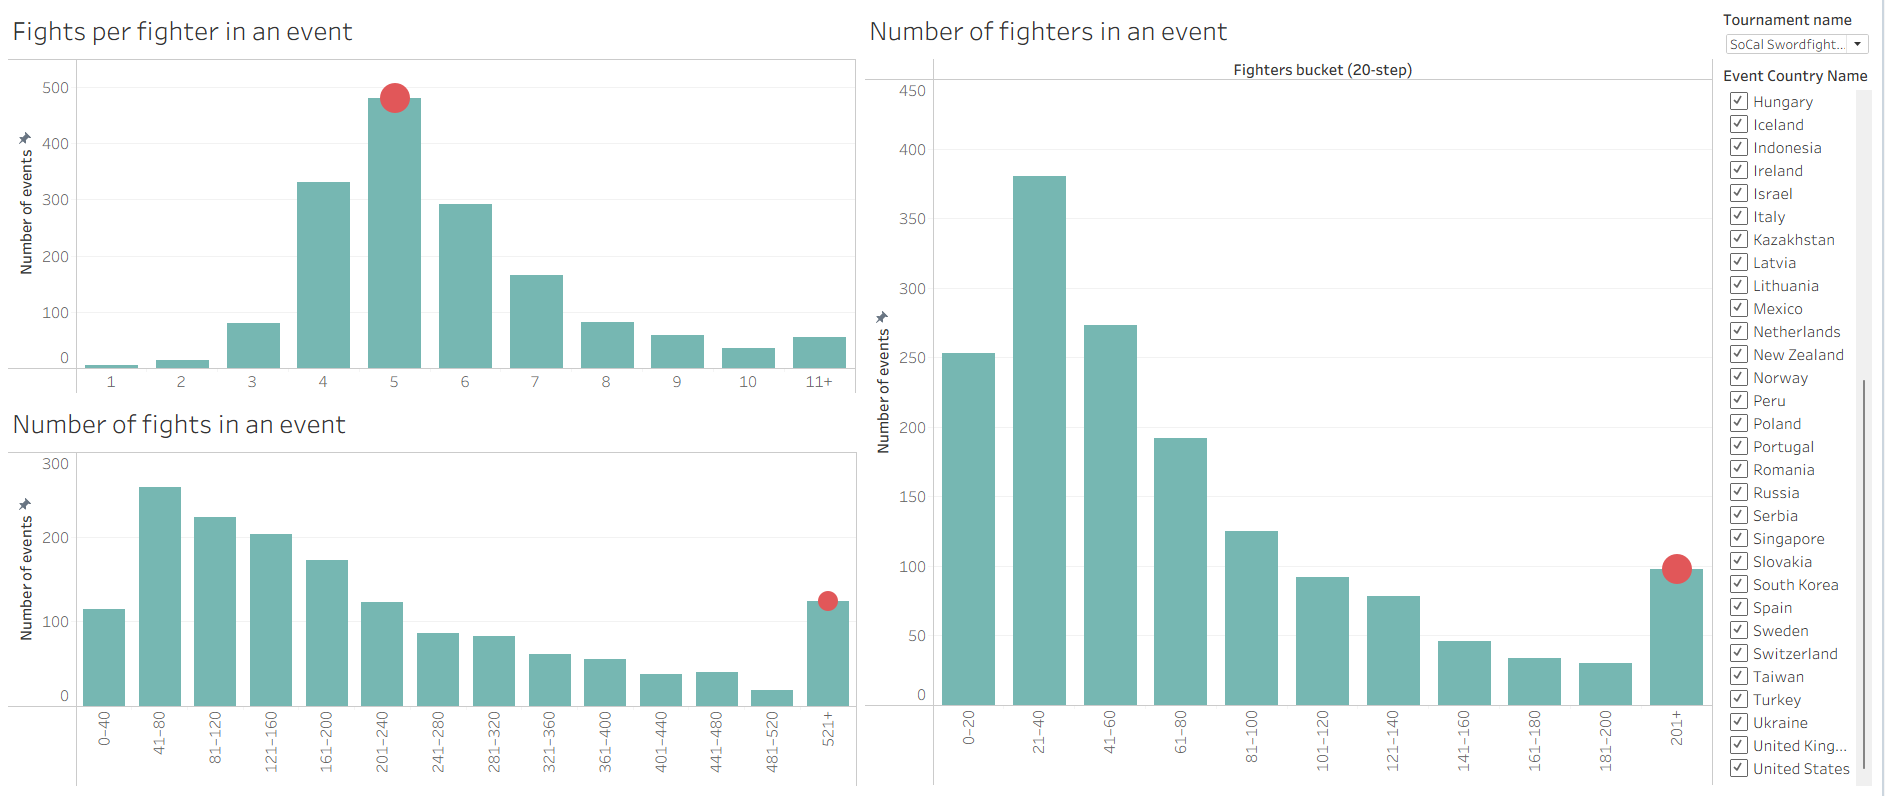

What the dashboard file says about the page in this screenshot:
{"tool":"tableau","page":{"name":"Fights and Fighters","canvas":[1000,1000],"units":"permille","ordinal":0},"visuals":[{"type":"worksheet","title":"Fights per fighter","mark":"Bar","rows":["EventID","Calculation_1533194241528815624"],"cols":["Calculation_1737826548933554177"],"box":[4.2,10,454.2,490]},{"type":"worksheet","title":"Number of fighters in a tournament","mark":"Bar","rows":["EventID","Calculation_1533194241504325635"],"cols":["Calculation_1533194241514876934"],"box":[458.4,10,454.2,980]},{"type":"parameter","param":"[Parameters].[Parameter 1]","box":[912.6,10,83.2,69.9]},{"type":"filter","title":"Fights per fighter","param":"[federated.1s12rpi1jj03qn1fevu5o0fg5jbi].[none:EventCountryName:nk]","box":[912.6,79.9,83.2,910.1]},{"type":"worksheet","title":"Number of fights in a tournament","mark":"Bar","rows":["EventID","Calculation_1533194241527177223"],"cols":["Calculation_1115766848245719043"],"box":[4.2,500,454.2,490]}]}

Visuals, with their boxes on the dashboard's canvas, which has no fixed pixel size, in thousandths of its width and height (x1, y1, x2, y2). These are canvas units, not pixel positions in the 1885x796 screenshot, which may show the page scaled, cropped or inside an application window:
"Fights per fighter" worksheet (Bar marks): 4/10/458/500
"Number of fighters in a tournament" worksheet (Bar marks): 458/10/913/990
parameter: 913/10/996/80
"Fights per fighter" filter: 913/80/996/990
"Number of fights in a tournament" worksheet (Bar marks): 4/500/458/990
